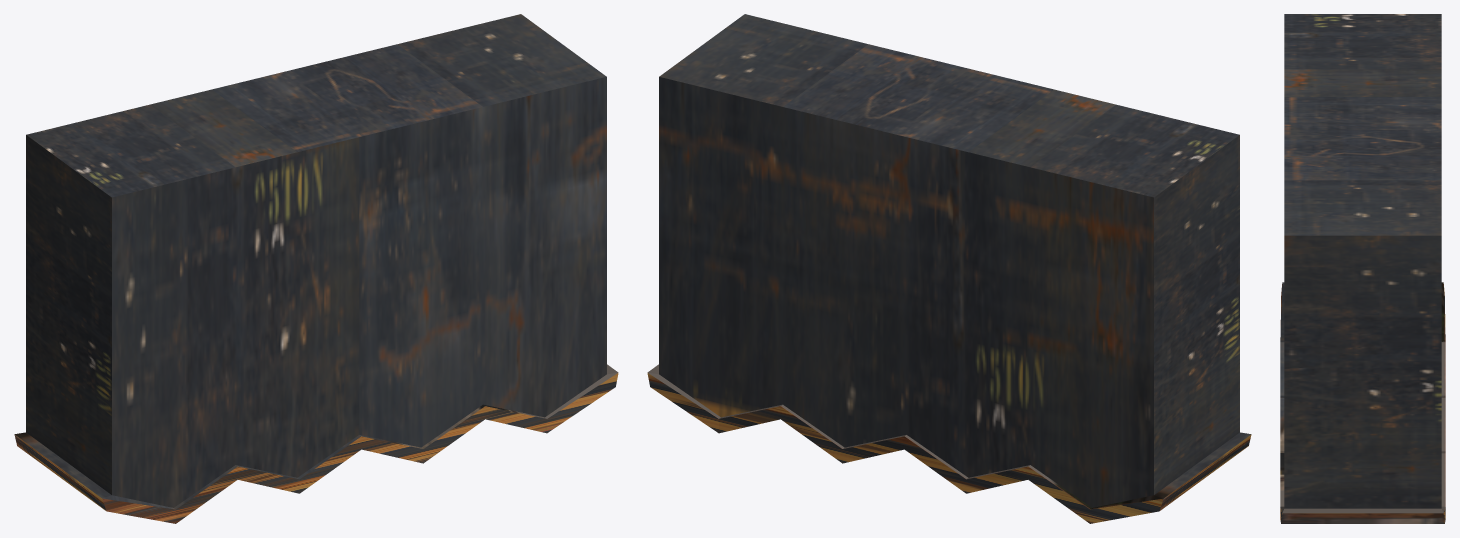
Rendered from door 2.fbx.
3 renders of one model, left to right at view 1: azimuth 30°, elevation 25°; view 2: azimuth 150°, elevation 25°; view 3: azimuth 270°, elevation 25°, orthographic. The views are drawn at different scales.
Parts seen in each view (by area): view 1: Cube.543; view 2: Cube.543; view 3: Cube.543.
Boxes of the visible parts, x1,y1,x2,y2 form: Cube.543: (14,14,618,523); Cube.543: (647,14,1251,523); Cube.543: (1280,14,1445,523).
Bounding box in the file's own units: 209 × 131 × 63.
